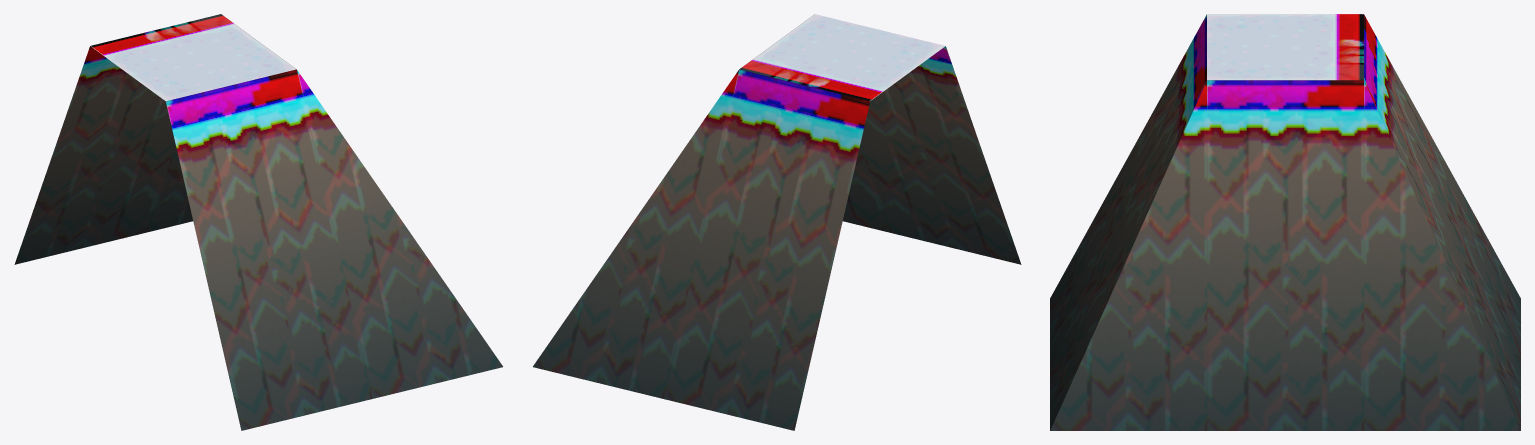
The model's file is arch_winter_wall_cornerOutDouble.FBX.
The picture shows the model from 3 angles, left to right: view 1: azimuth 30°, elevation 25°; view 2: azimuth 150°, elevation 25°; view 3: azimuth 270°, elevation 25°; orthographic projection. The views are drawn at different scales.
Parts seen in each view (by area): view 1: arch_winter_wall_cornerOutDouble; view 2: arch_winter_wall_cornerOutDouble; view 3: arch_winter_wall_cornerOutDouble.
Boxes of the visible parts, x1=… form: arch_winter_wall_cornerOutDouble: x1=14, y1=14, x2=502, y2=430; arch_winter_wall_cornerOutDouble: x1=533, y1=14, x2=1021, y2=430; arch_winter_wall_cornerOutDouble: x1=1050, y1=14, x2=1520, y2=430.
Size of the model in its own units: 4 by 4 by 6.
Materials: 1 (1 with a texture image).
